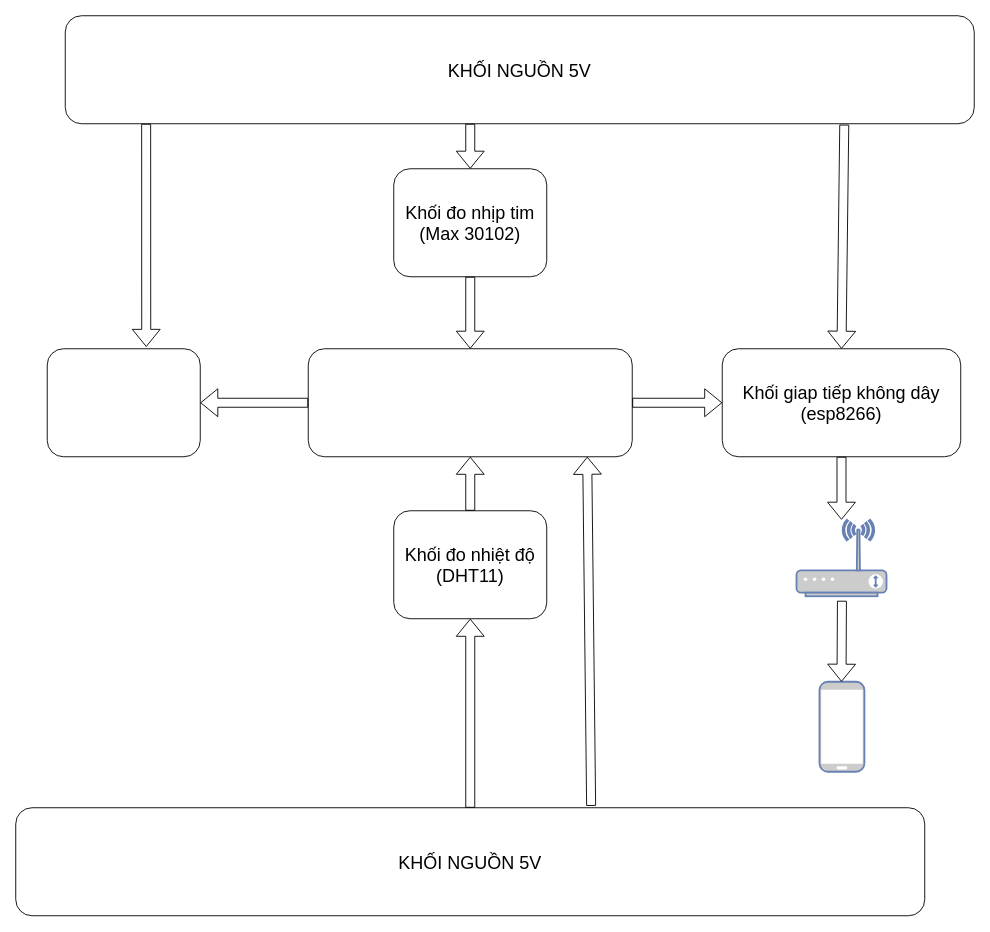
Some shapes in this 990 by 932 pixel diagram are drawn without their labels. The centre of each missing label's shape, as x and y in pixels:
Khối thực thi (Còi, Relay): point (123, 402)
Khối trung tâm (Arduino UNO): point (469, 402)
